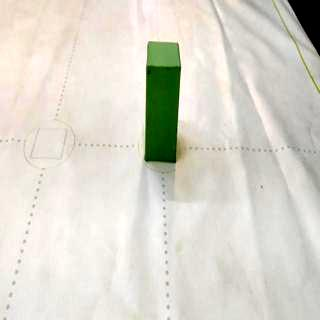greenbox: (144, 38, 180, 165)
